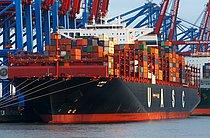Ship: (5, 10, 203, 128)
